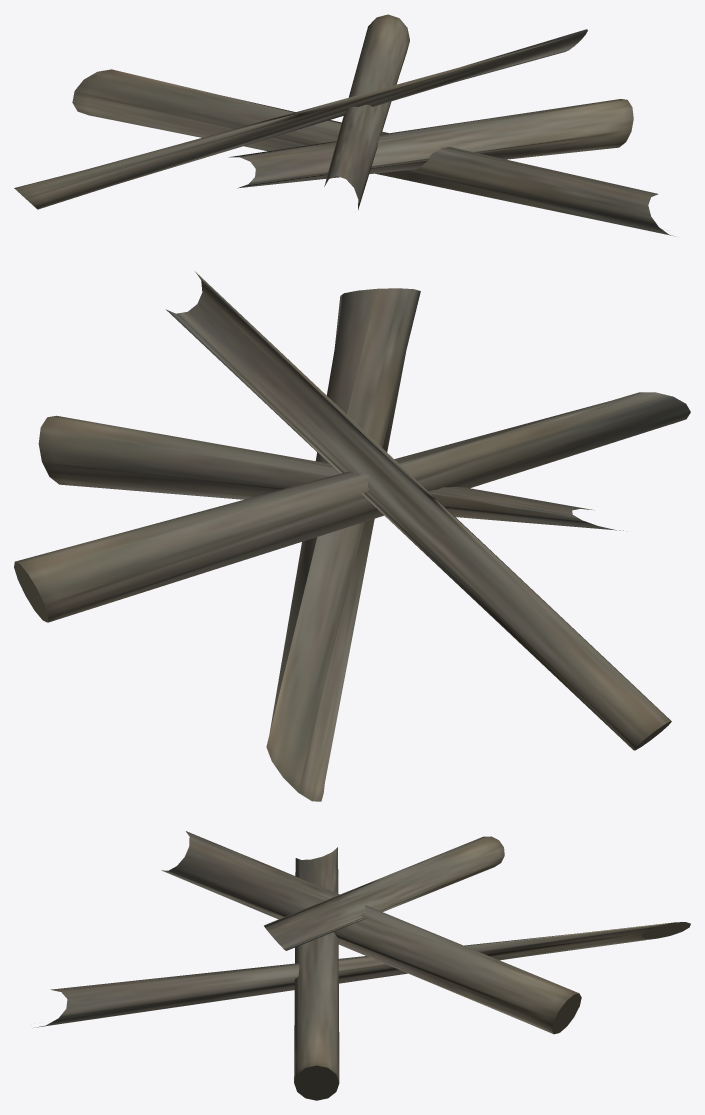
File: kindling.glb
3 views of the same model, one above another, from view 1: azimuth 30°, elevation 25°; view 2: azimuth 150°, elevation 25°; view 3: azimuth 270°, elevation 25° (orthographic). The views are drawn at different scales.
Parts seen in each view (by area): view 1: broom.ms3d.mo; view 2: broom.ms3d.mo; view 3: broom.ms3d.mo.
Boxes of the visible parts, x1,y1,x2,y2 form: broom.ms3d.mo: [14, 14, 675, 236]; broom.ms3d.mo: [14, 271, 690, 801]; broom.ms3d.mo: [34, 831, 690, 1100].
Size of the model in its own units: 15.67 by 4.47 by 17.62.
1 material, 1 textured.
